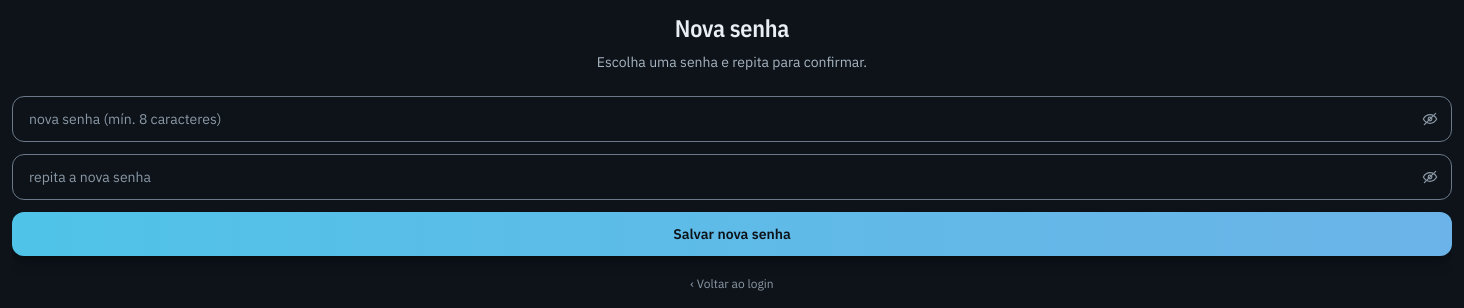
Test: RecuperarSenha — definir a nova senha › erro de rede não marca o token como morto
Type "senhaboa123" into the password field with placeholder "nova senha (mín. 8 caracteres)".
click(732, 119); type("senhaboa123")  # box x1=12 y1=96 x2=1452 y2=142
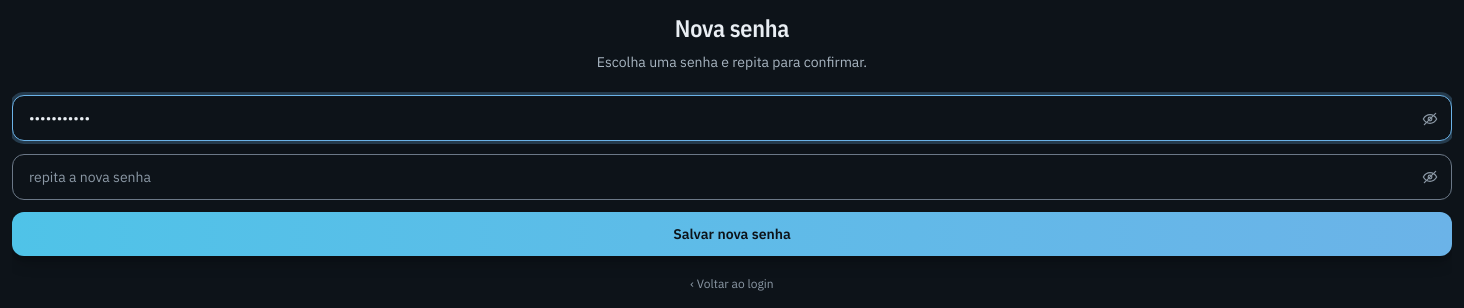
Type "senhaboa123" into the password field with placeholder "repita a nova senha".
click(732, 177); type("senhaboa123")  # box x1=12 y1=154 x2=1452 y2=200
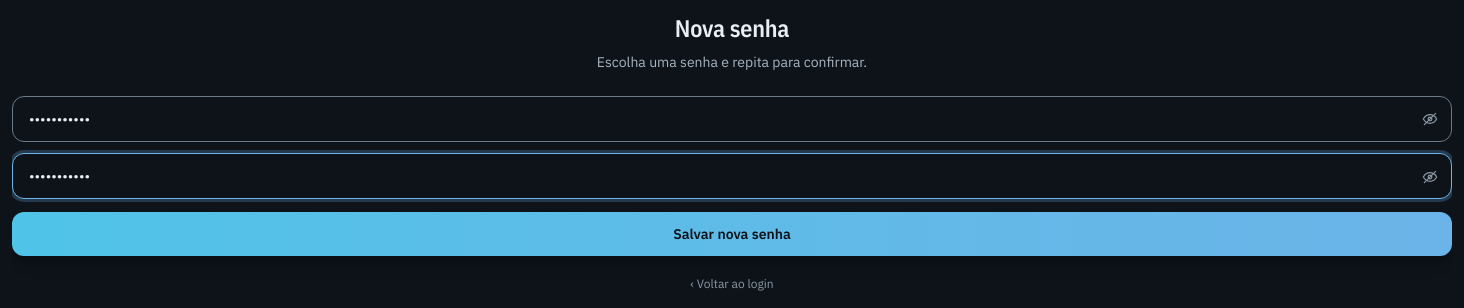
Click the button "Salvar nova senha".
click(732, 234)  # box x1=12 y1=212 x2=1452 y2=256
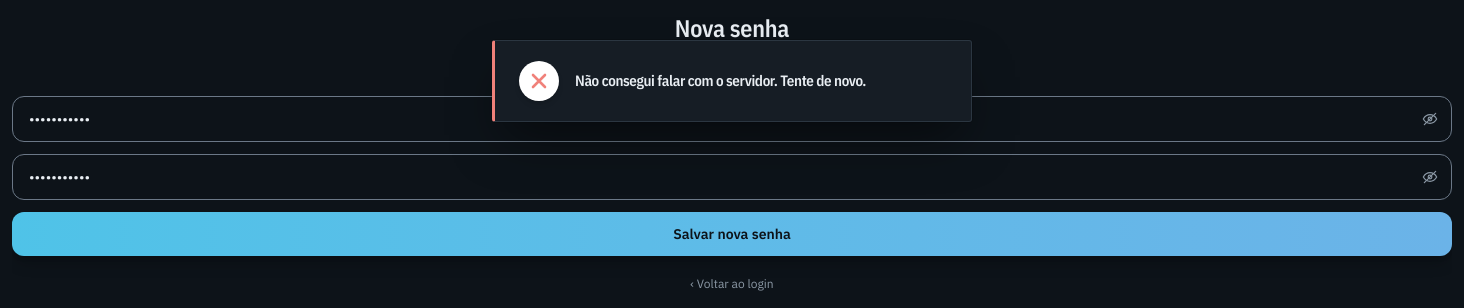
Expected: the text "Não consegui falar com o servidor. Tente de novo." is shown, x1=575 y1=71 x2=866 y2=91
